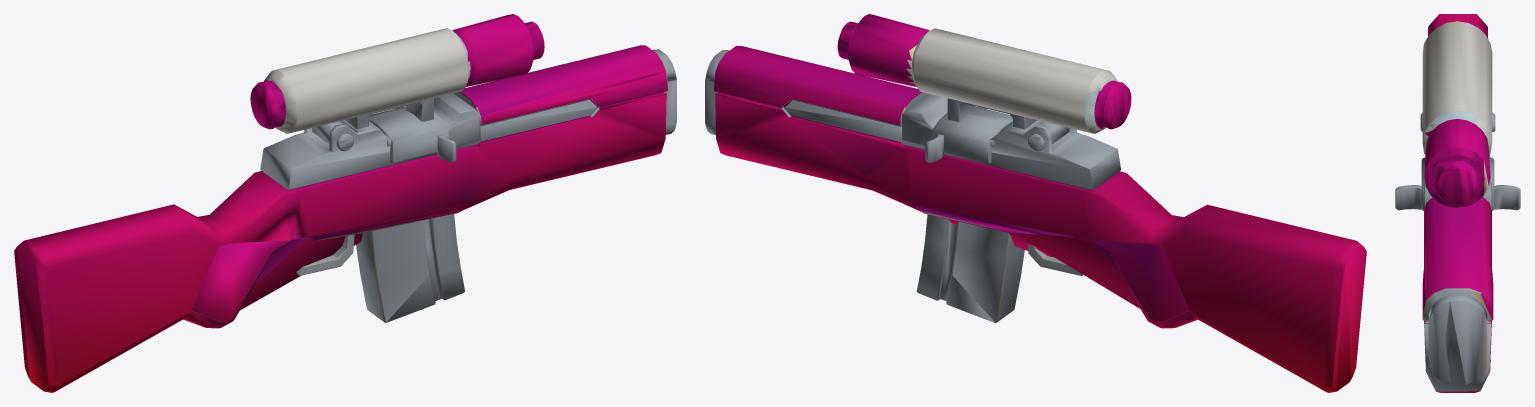
The model's file is wpn_marqueur.glb.
The picture shows the model from 3 angles, left to right: view 1: azimuth 30°, elevation 25°; view 2: azimuth 150°, elevation 25°; view 3: azimuth 270°, elevation 25°; orthographic projection. The views are drawn at different scales.
Parts seen in each view (by area): view 1: wpn_marqueur, chargeur, capuchon; view 2: wpn_marqueur, chargeur, capuchon; view 3: wpn_marqueur, capuchon.
Boxes of the visible parts, box(x1,y1,x2,y2) form: wpn_marqueur: box(14, 14, 676, 392); chargeur: box(191, 212, 458, 328); capuchon: box(462, 45, 676, 115); wpn_marqueur: box(705, 14, 1366, 392); chargeur: box(914, 204, 1195, 328); capuchon: box(705, 45, 919, 110); wpn_marqueur: box(1395, 14, 1520, 392); capuchon: box(1422, 197, 1493, 384).
Size of the model in its own units: 0.8954 by 0.3601 by 0.1417.
